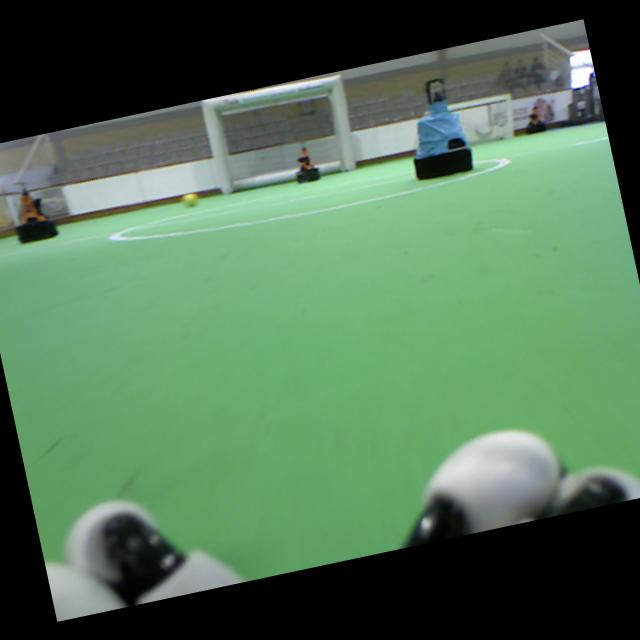ball: (182, 192, 197, 205)
goal: (505, 94, 514, 138)
robot: (14, 181, 59, 244), (296, 142, 320, 182), (526, 105, 546, 133)
